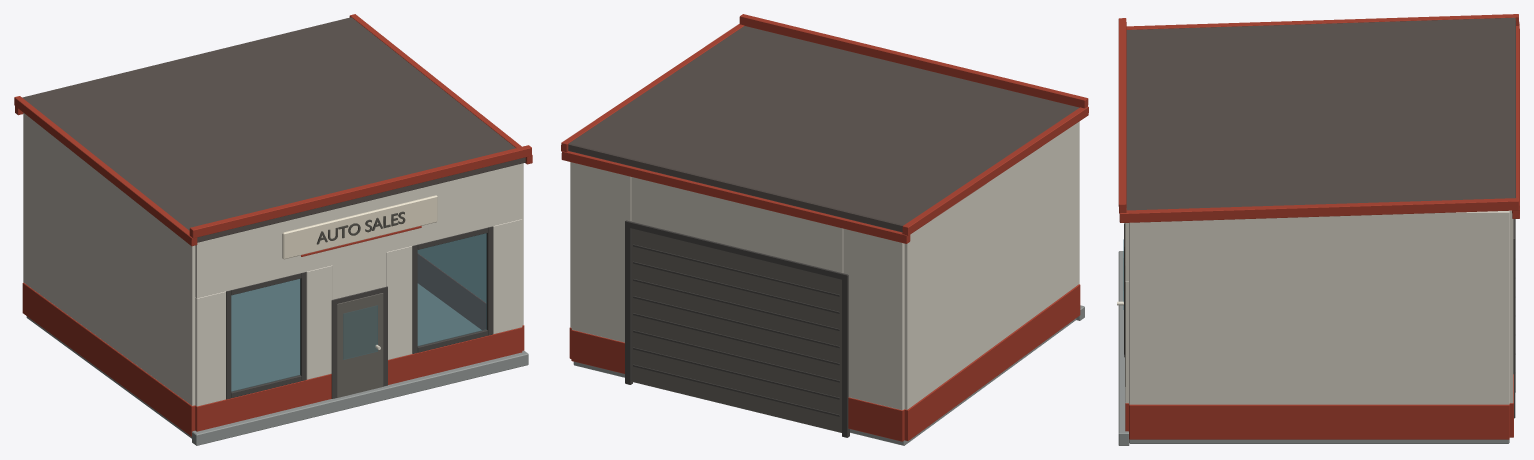
The model's file is AutoSales.glb.
3 views of the same model, side by side, from view 1: azimuth 30°, elevation 25°; view 2: azimuth 150°, elevation 25°; view 3: azimuth 270°, elevation 25° (orthographic). The views are drawn at different scales.
Parts seen in each view (by area): view 1: FTF_Building_AutoSalesShowroom_10x9m_BuildingStatic, FrontDoor_Mesh; view 2: FTF_Building_AutoSalesShowroom_10x9m_BuildingStatic, RearGarageDoor_Mesh; view 3: FTF_Building_AutoSalesShowroom_10x9m_BuildingStatic.
Boxes of the visible parts, x1,y1,x2,y2 form: FTF_Building_AutoSalesShowroom_10x9m_BuildingStatic: (14,14,532,445); FrontDoor_Mesh: (337,293,383,397); FTF_Building_AutoSalesShowroom_10x9m_BuildingStatic: (561,14,1088,445); RearGarageDoor_Mesh: (631,228,841,432); FTF_Building_AutoSalesShowroom_10x9m_BuildingStatic: (1118,14,1519,445).
Bounding box in the file's own units: 10.48 × 6.55 × 9.53.
